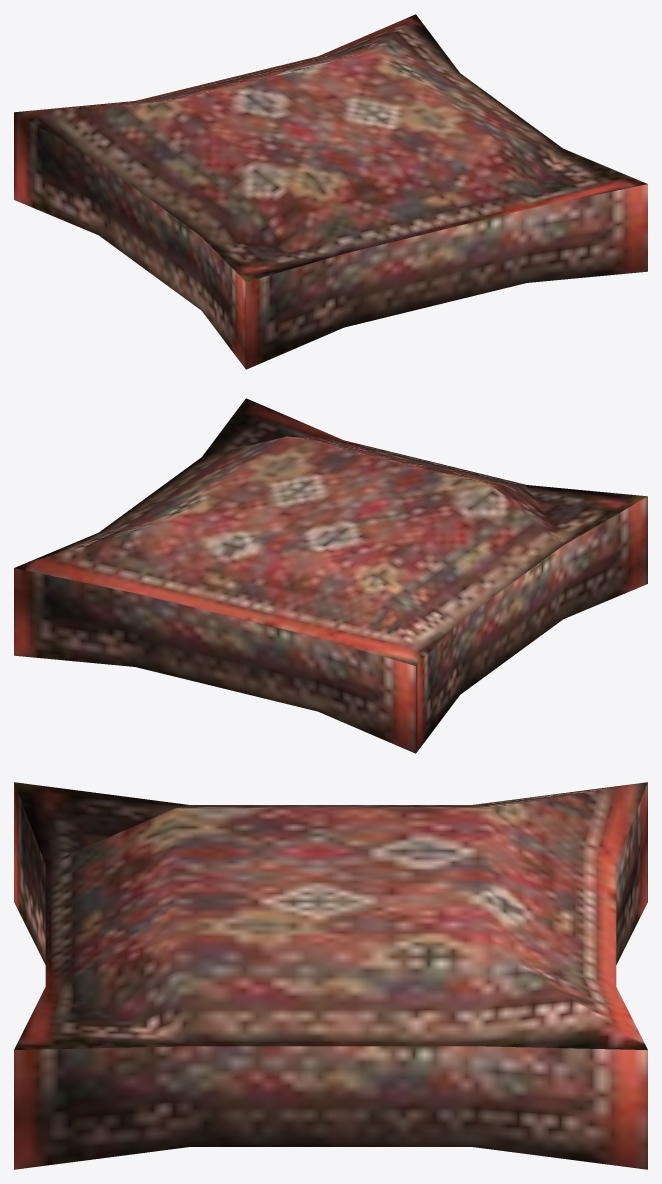
The model's file is Pillow.fbx.
3 renders of one model, top to bottom at view 1: azimuth 30°, elevation 25°; view 2: azimuth 150°, elevation 25°; view 3: azimuth 270°, elevation 25°, orthographic. The views are drawn at different scales.
Visible parts, largest first — view 1: Cube; view 2: Cube; view 3: Cube.
Boxes of the visible parts, box(x1,y1,x2,y2) form: Cube: box(14, 14, 647, 369); Cube: box(14, 398, 647, 753); Cube: box(14, 782, 647, 1169).
Bounding box in the file's own units: 200 × 69.24 × 200.
Materials: 1 (1 with a texture image).
